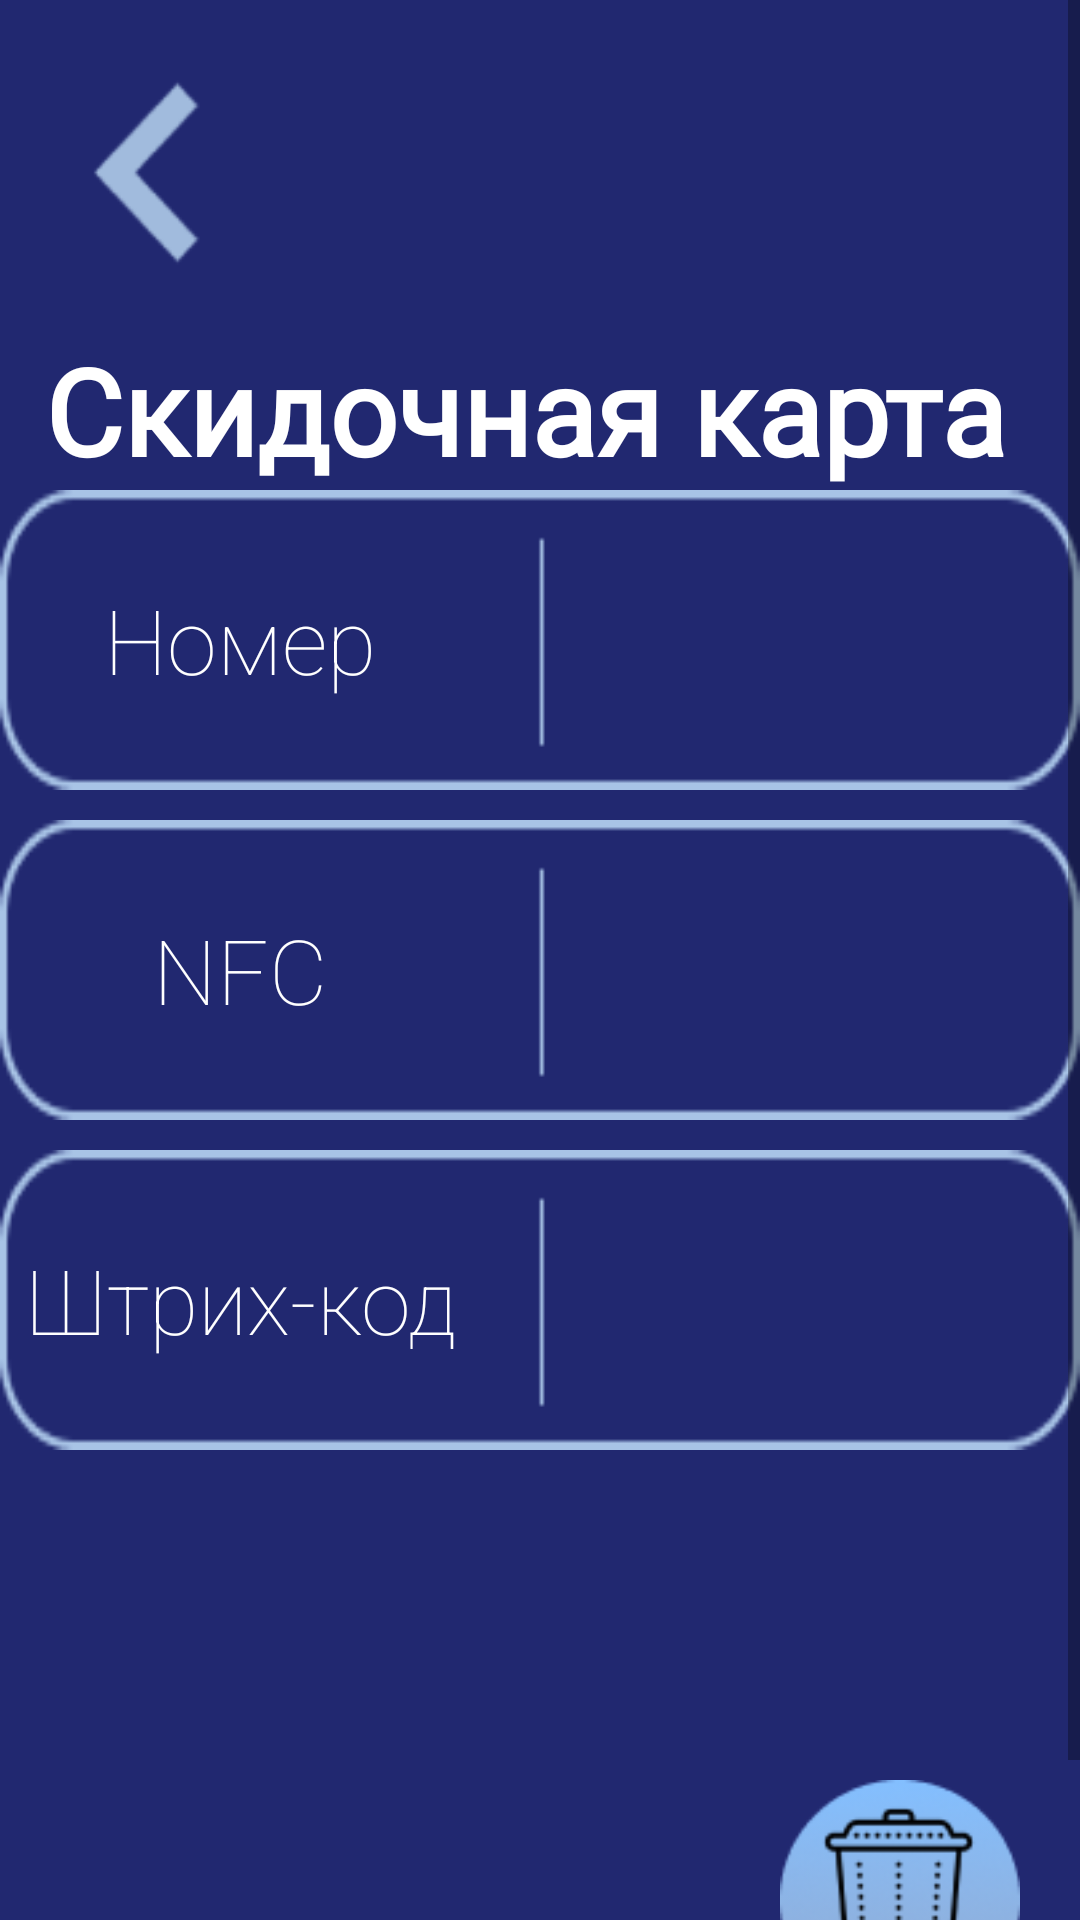

Icons on this 1080 × 1920 Android screen, each with its box as (x1, y1, x2, y2):
back: (94, 83, 198, 262)
